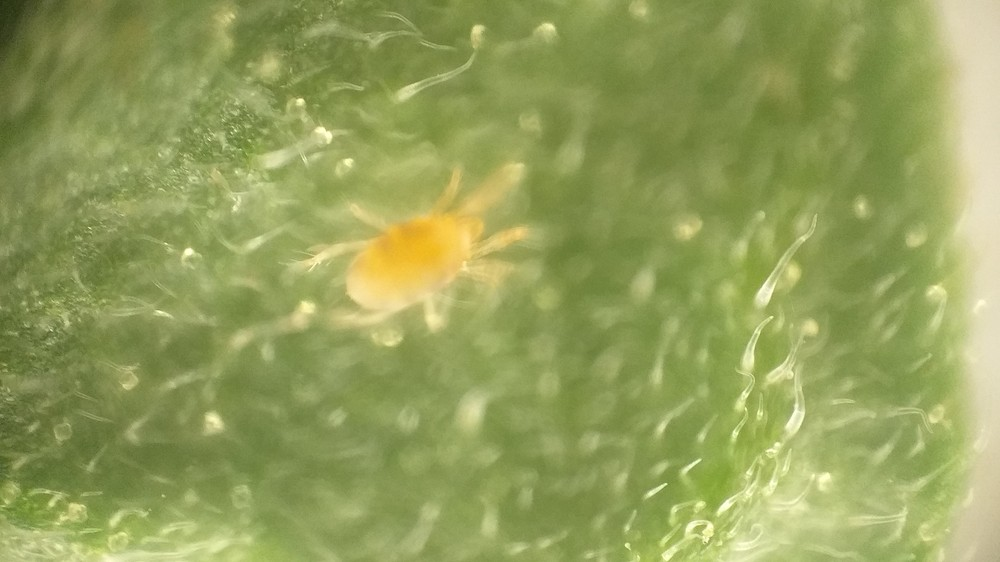Aracnido Rojo: (291, 152, 556, 338)
